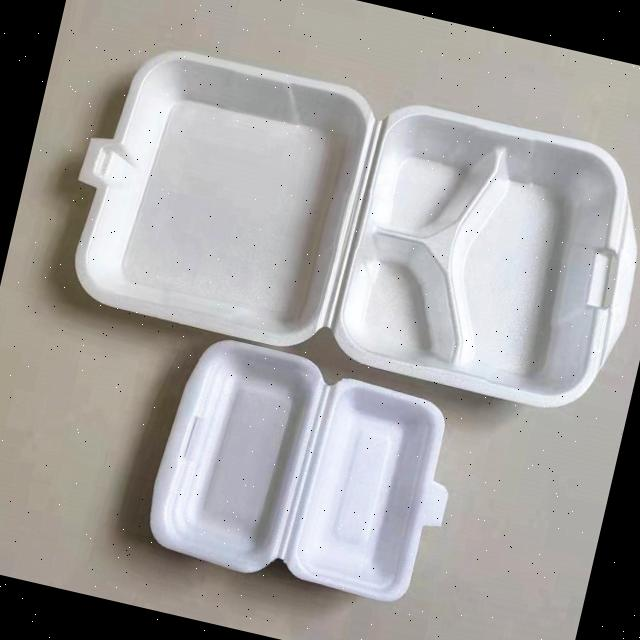styrofoam: (0, 26, 640, 640), (49, 30, 382, 358), (323, 93, 640, 423), (137, 328, 471, 614)
